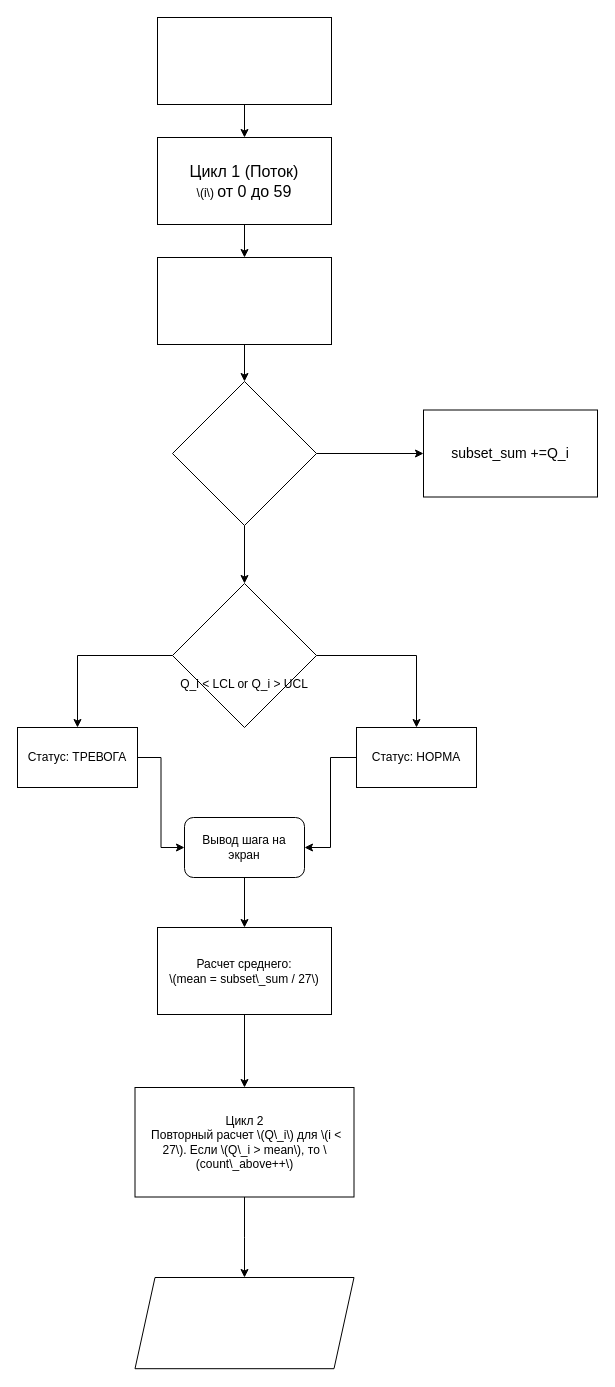
Some shapes in this 615 by 1387 pixel diagram are drawn without their labels. The centre of each missing label's shape, as x and y in pixels:
"i < 27" belongs at point (244, 453).
"Вывод результатов статистики" belongs at point (244, 1322).
"Инициализация: \(Q0 = 49.59, N = 60\) \(LCL = 47.11, UCL = 52.07\)" belongs at point (244, 60).
"Расчет \(Q\_i\) по кусочной функции \(X\_i\)" belongs at point (244, 300).
